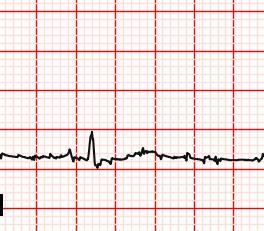Poor R Progression: (86, 128, 98, 162)
